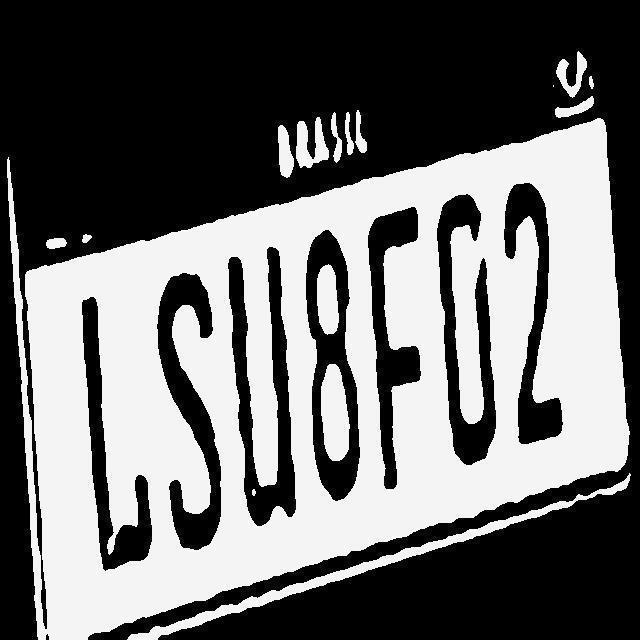0: (436, 190, 496, 466)
2: (500, 181, 565, 441)
8: (302, 226, 358, 500)
f: (367, 208, 423, 487)
l: (65, 296, 154, 568)
s: (154, 272, 227, 554)
u: (223, 255, 304, 530)
